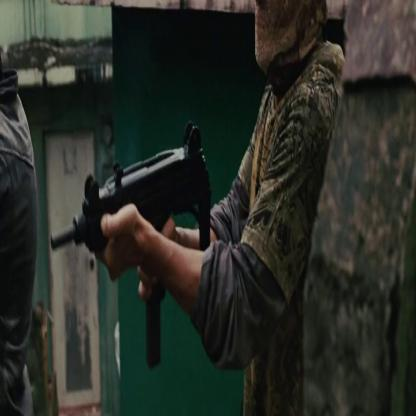gun: (47, 131, 227, 303)
